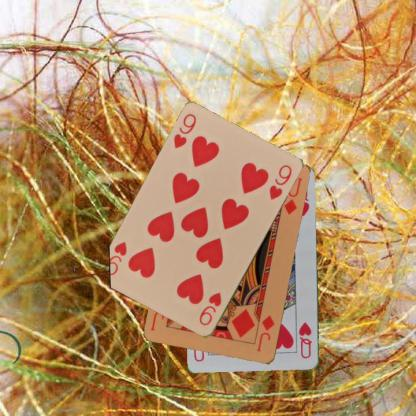9h: (171, 111, 198, 150), (196, 289, 223, 327)
Jd: (254, 312, 276, 354)
Qh: (296, 319, 314, 360)
